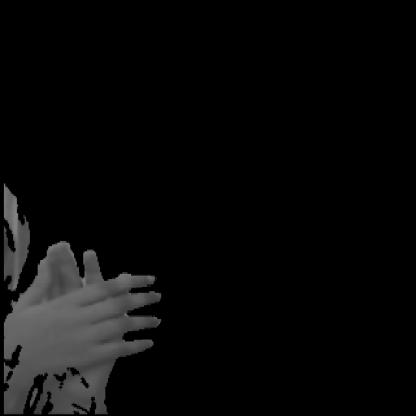clap: (21, 212, 165, 395)
